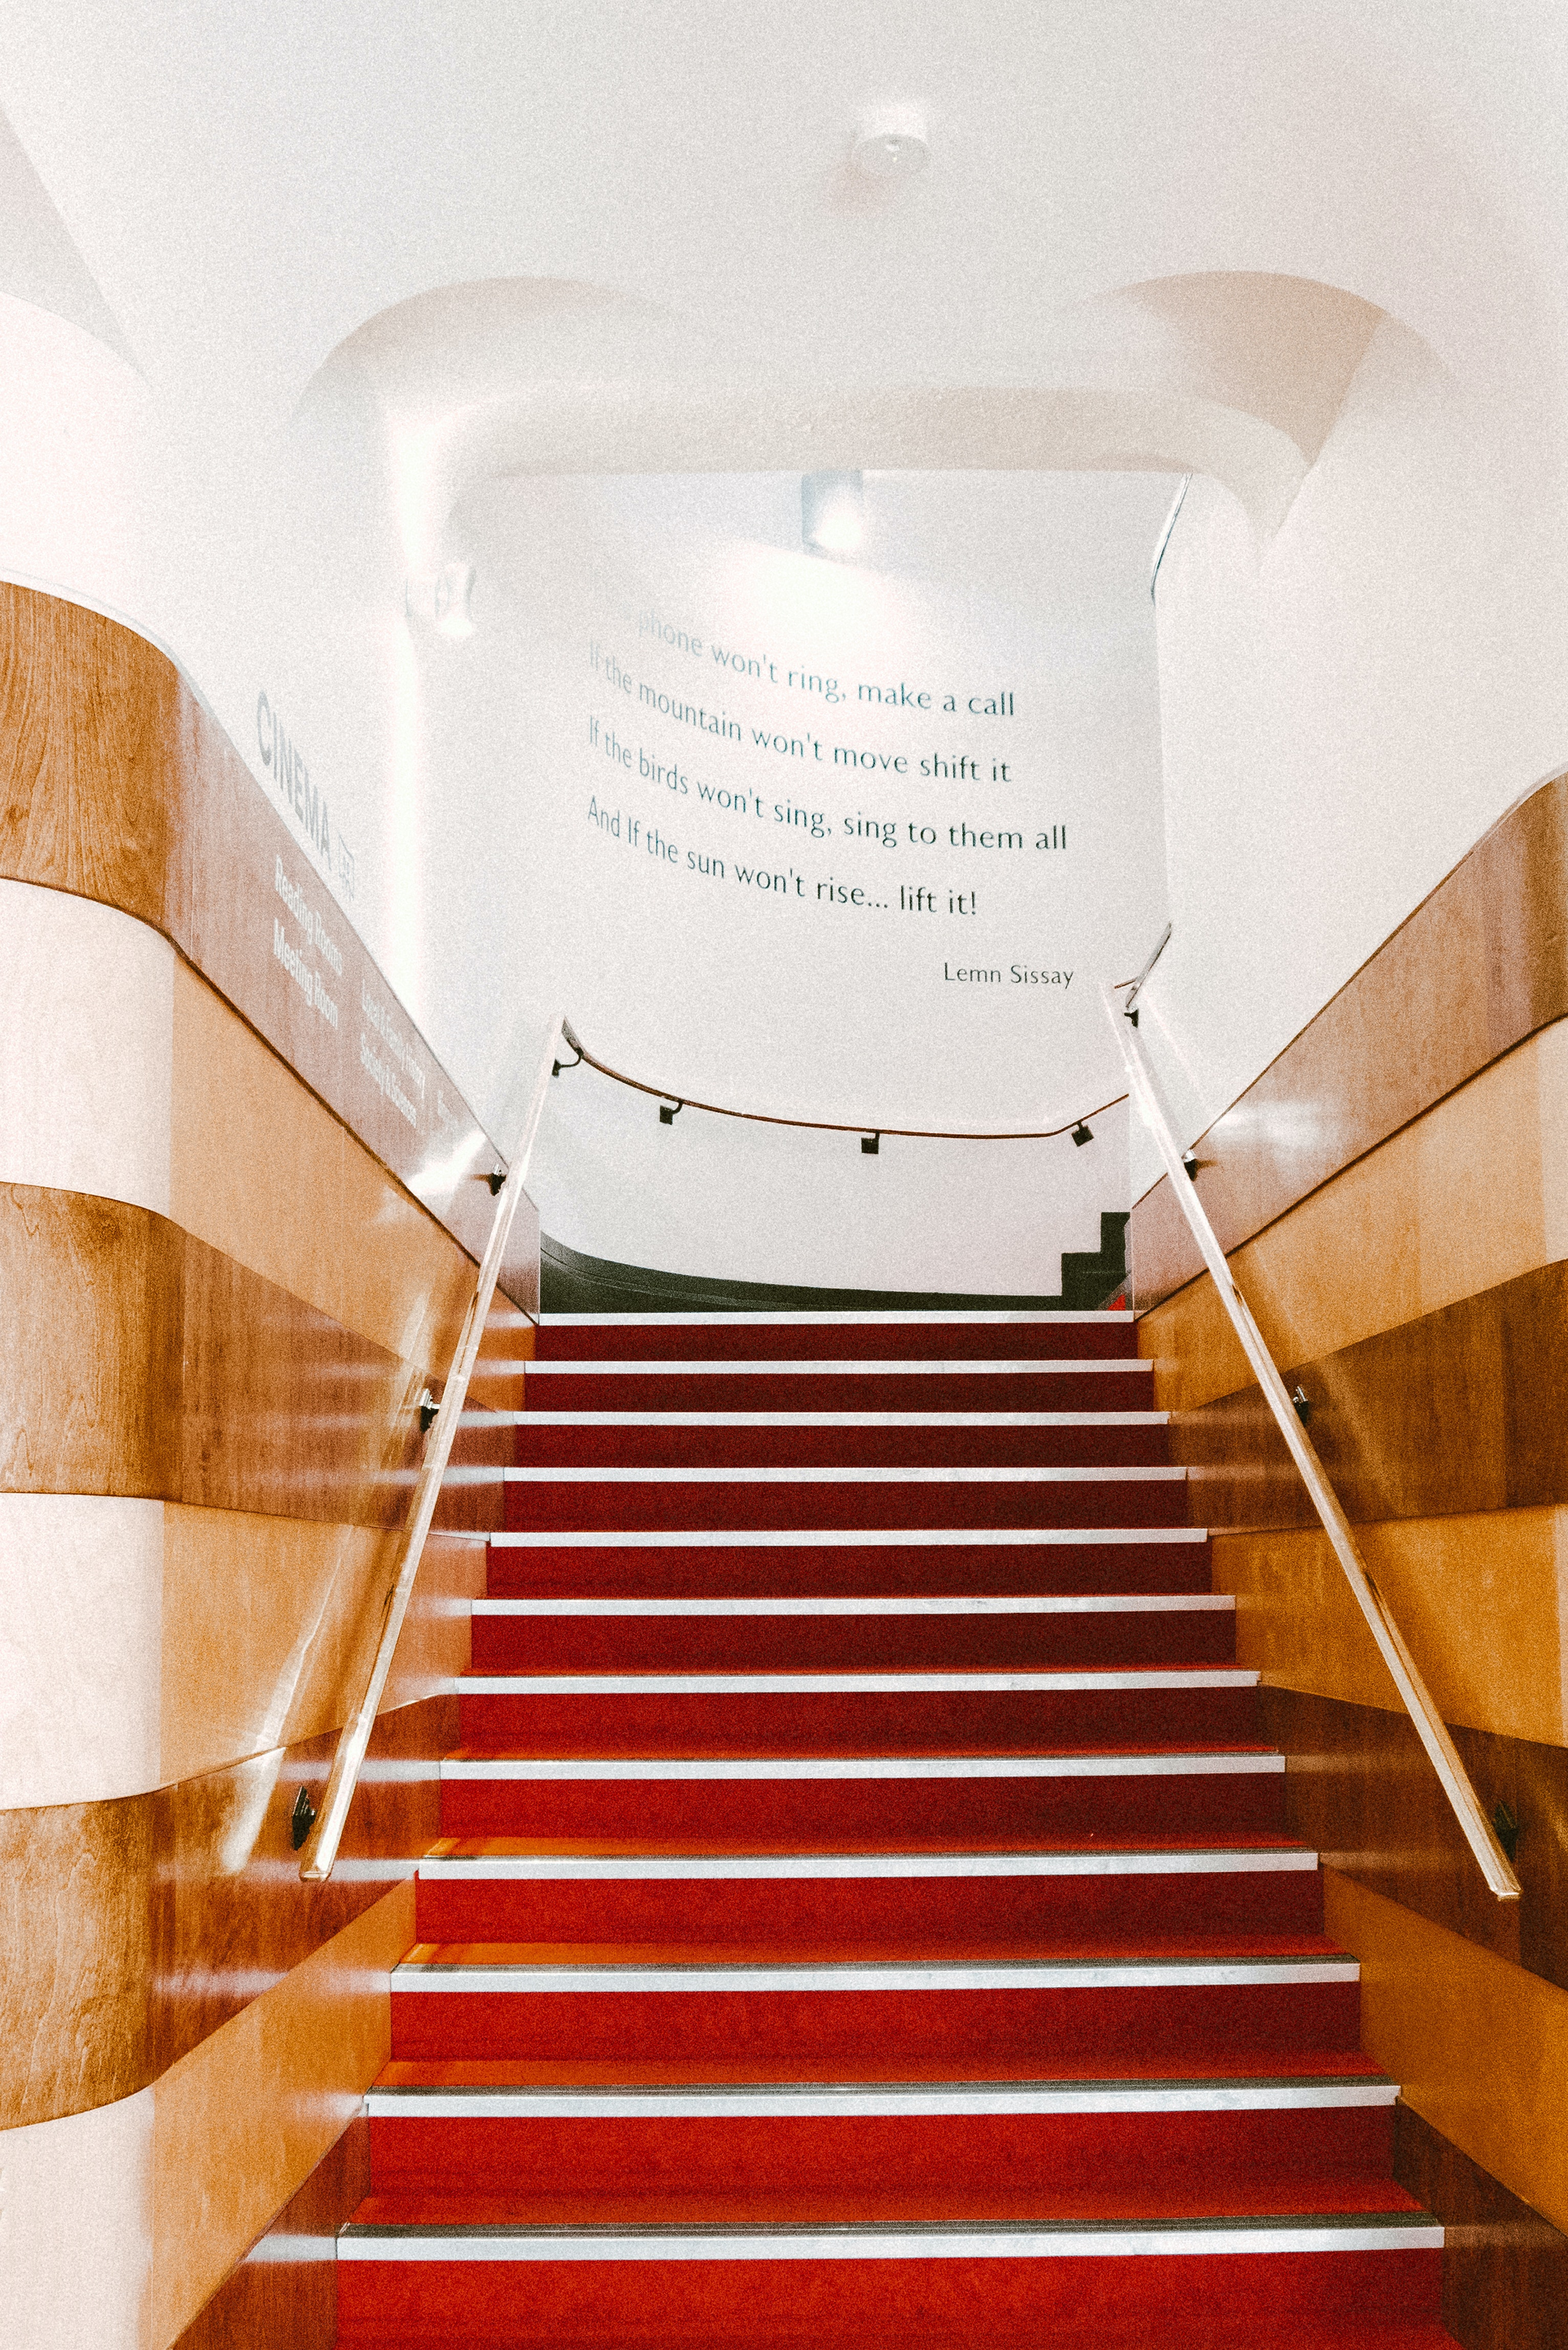upstairs: (434, 1825, 1307, 2350)
